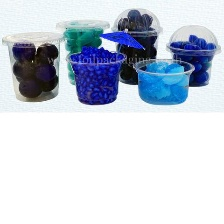glass: (0, 28, 67, 104), (108, 6, 165, 86), (160, 22, 224, 89), (53, 15, 110, 86), (64, 46, 130, 107), (127, 56, 197, 108)
